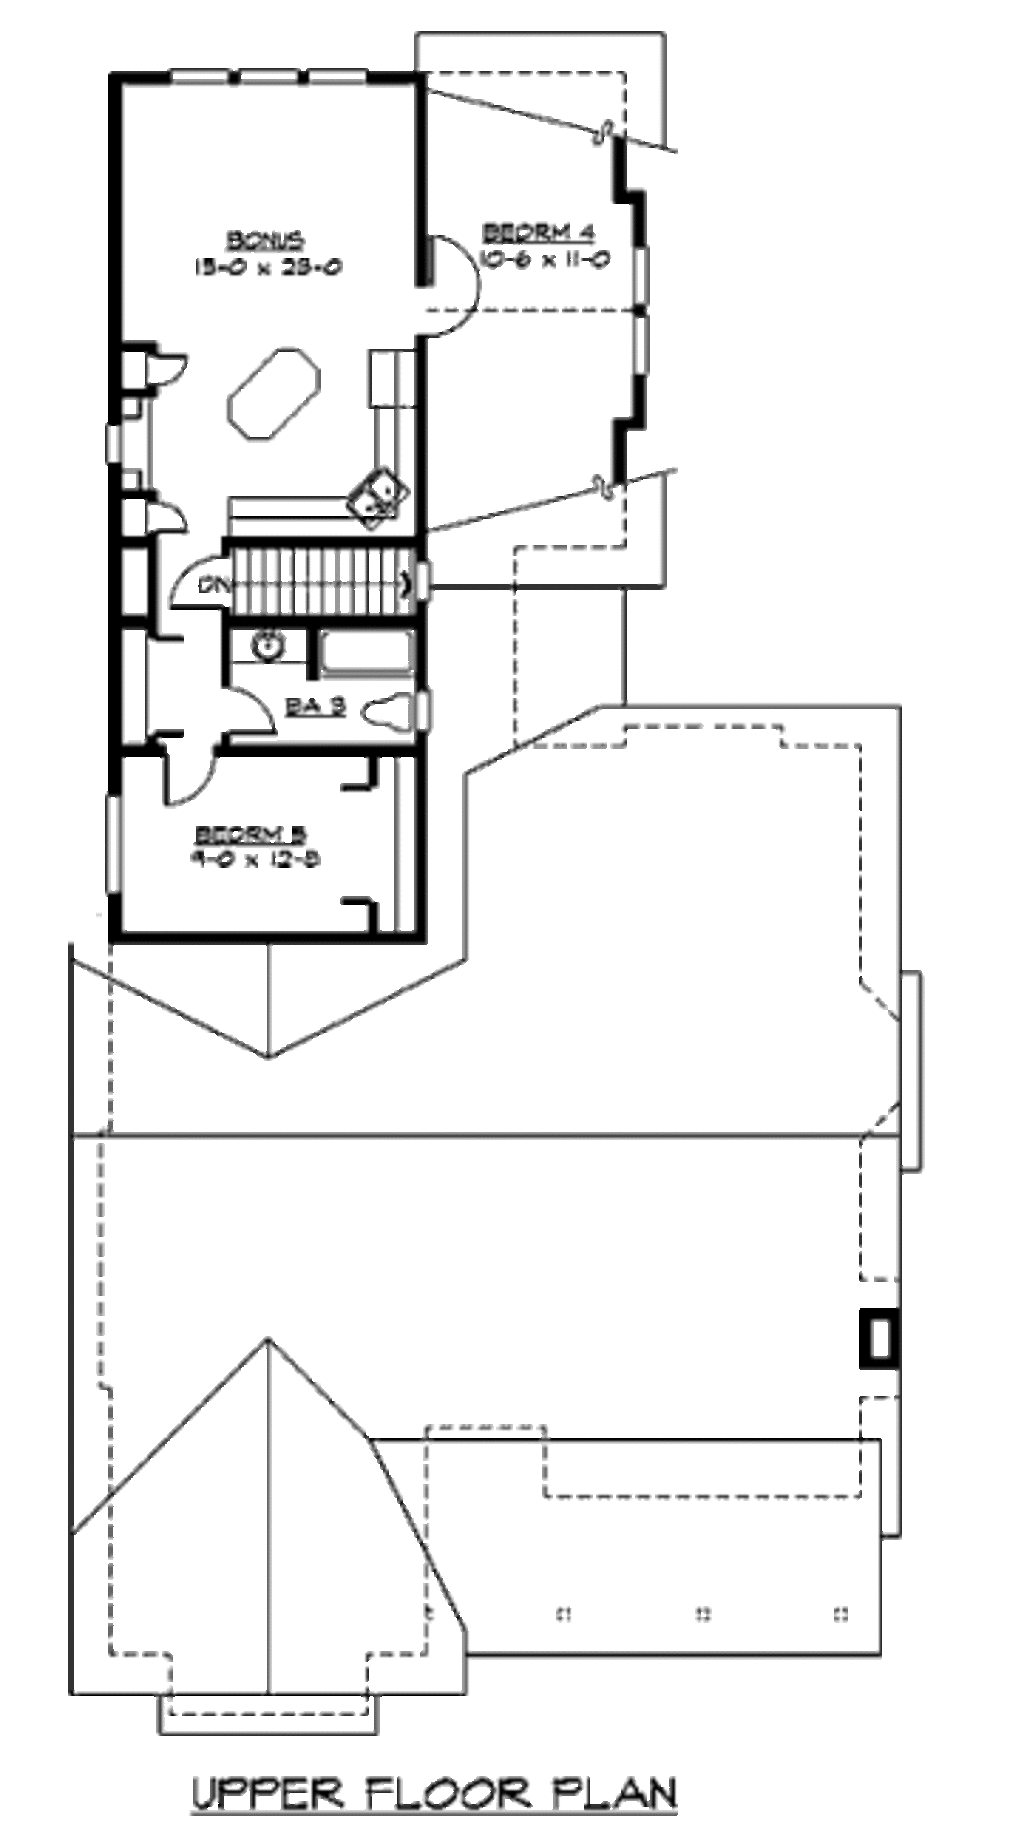door: (150, 736, 243, 822), (219, 671, 296, 756), (170, 545, 242, 610)
stairs: (242, 542, 422, 621)
twin_sink: (335, 470, 430, 539)
window: (306, 54, 373, 107), (161, 59, 243, 96), (250, 59, 304, 102)
